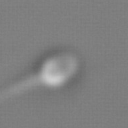normal: (1, 75, 39, 102)
